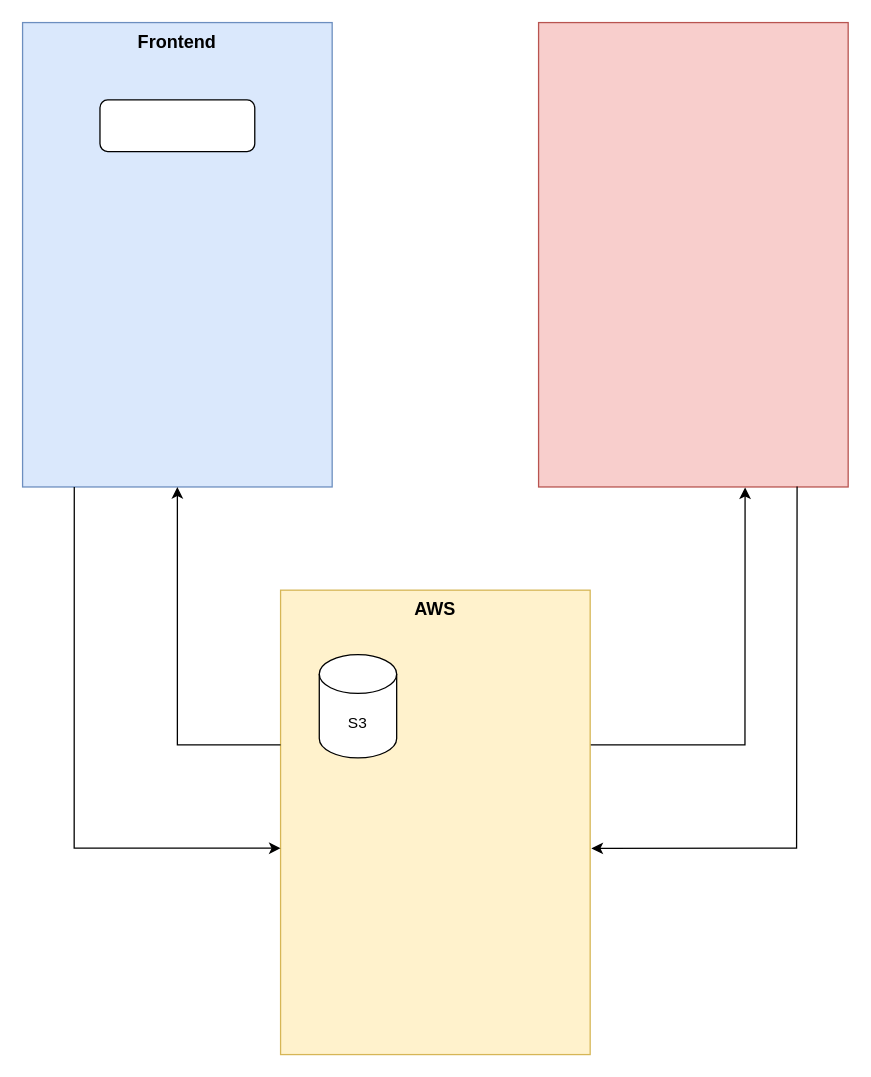
Some shapes in this 871 by 1077 pixel diagram are drawn without their labels. Here are the shapes that lost their labels. From the top down, the centre of each, then its label:
(177,125): View
(692,254): Backend
